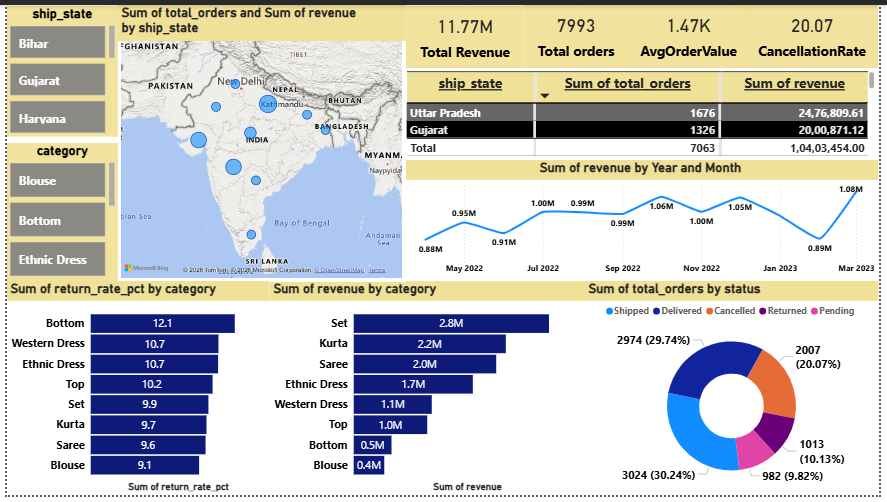

Layout of this report page (visuals, bound fields, positions):
{"tool":"powerbi","page":{"name":"Page 1","canvas":[1280,720],"ordinal":0},"visuals":[{"type":"card","fields":{"Values":["Sum(revenue_by_category.revenue)"]},"box":[586.3,1.5,173.4,97],"z":0},{"type":"card","fields":{"Values":["Sum(Monthly_Revenue_Trend (2).orders)"]},"box":[759.7,0,152.8,98.4],"z":1000},{"type":"card","fields":{"Values":["order_status_breakdown_cancellation_rate.CancellationRate"]},"box":[1085.9,0,194,98.4],"z":2000},{"type":"card","fields":{"Values":["Monthly_Revenue_Trend (2).AverageOrderValue"]},"box":[912.5,0,177.8,98.4],"z":3000},{"type":"clusteredBarChart","fields":{"Category":["revenue_by_category.category"],"Y":["Sum(revenue_by_category.revenue)"]},"box":[386.4,405.6,462.9,314.4],"z":4000},{"type":"lineChart","fields":{"Category":["Monthly_Revenue_Trend (2).month.Variation.Date Hierarchy.Year","Monthly_Revenue_Trend (2).month.Variation.Date Hierarchy.Month"],"Y":["Sum(Monthly_Revenue_Trend (2).revenue)"]},"box":[581.9,227.8,698,177.8],"z":5000},{"type":"donutChart","fields":{"Category":["order_status_breakdown_cancellation_rate.status"],"Y":["Sum(order_status_breakdown_cancellation_rate.total_orders)"]},"box":[849.3,405.6,430.5,314.4],"z":6000},{"type":"map","fields":{"Category":["revenue_by_state.ship_state"],"Size":["Sum(revenue_by_state.total_orders)"]},"box":[163.1,0,423.2,405.6],"z":7000},{"type":"advancedSlicerVisual","fields":{"Values":["revenue_by_category.category"]},"box":[0,202.8,163.1,202.8],"z":8000},{"type":"advancedSlicerVisual","fields":{"Values":["revenue_by_state.ship_state"]},"box":[0,1.5,163.1,192.5],"z":9000},{"type":"tableEx","fields":{"Values":["revenue_by_state.ship_state","Sum(revenue_by_state.total_orders)","Sum(revenue_by_state.revenue)"]},"box":[581.9,92.5,698,135.2],"z":10000},{"type":"clusteredBarChart","fields":{"Category":["return_rate_by_category.category"],"Y":["Sum(return_rate_by_category.return_rate_pct)"]},"box":[0,405.6,386.4,314.4],"z":11000}]}

Visuals, with their boxes in screenshot pixels (x1, y1, x2, y2), scaled from the page's 1280x720 canvas onto the 887x502 screenshot:
card - Sum(revenue_by_category.revenue): <region>406, 1, 526, 69</region>
card - Sum(Monthly_Revenue_Trend (2).orders): <region>526, 0, 632, 69</region>
card - order_status_breakdown_cancellation_rate.CancellationRate: <region>752, 0, 886, 69</region>
card - Monthly_Revenue_Trend (2).AverageOrderValue: <region>632, 0, 756, 69</region>
clusteredBarChart - revenue_by_category.category x Sum(revenue_by_category.revenue): <region>268, 283, 589, 501</region>
lineChart - Monthly_Revenue_Trend (2).month.Variation.Date Hierarchy.Year x Monthly_Revenue_Trend (2).month.Variation.Date Hierarchy.Month: <region>403, 159, 886, 283</region>
donutChart - order_status_breakdown_cancellation_rate.status x Sum(order_status_breakdown_cancellation_rate.total_orders): <region>589, 283, 886, 501</region>
map - revenue_by_state.ship_state x Sum(revenue_by_state.total_orders): <region>113, 0, 406, 283</region>
advancedSlicerVisual - revenue_by_category.category: <region>0, 141, 113, 283</region>
advancedSlicerVisual - revenue_by_state.ship_state: <region>0, 1, 113, 135</region>
tableEx - revenue_by_state.ship_state x Sum(revenue_by_state.total_orders): <region>403, 64, 886, 159</region>
clusteredBarChart - return_rate_by_category.category x Sum(return_rate_by_category.return_rate_pct): <region>0, 283, 268, 501</region>
